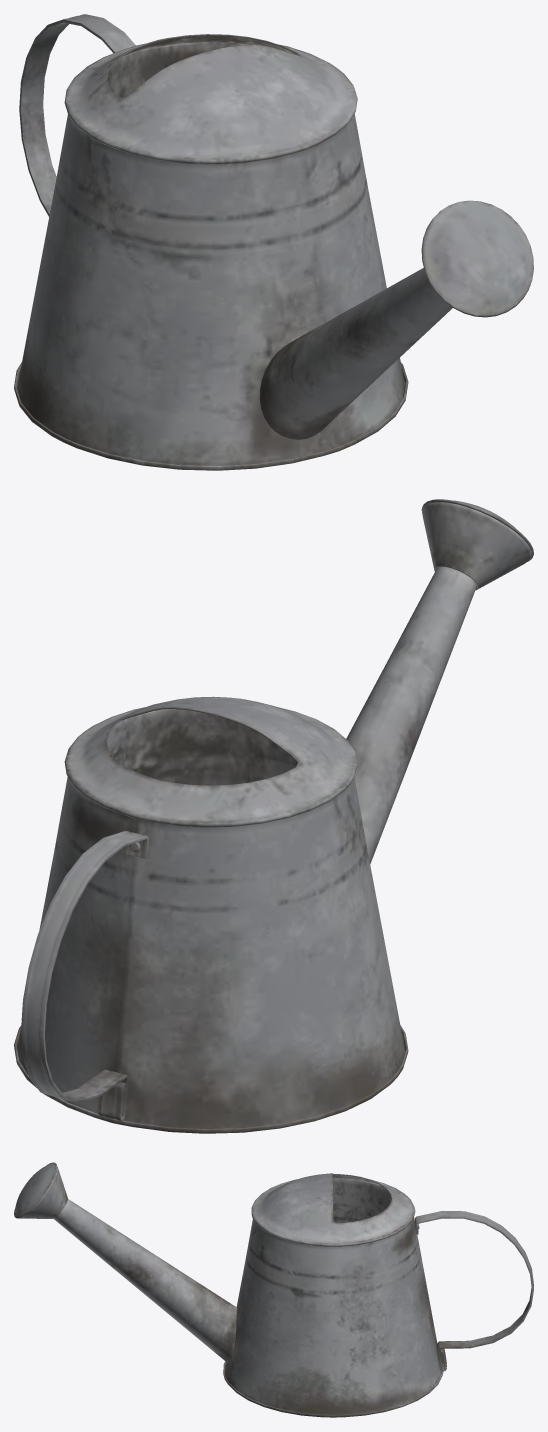
The model's file is watering_can_metal_01.glb.
3 renders of one model, top to bottom at view 1: azimuth 30°, elevation 25°; view 2: azimuth 150°, elevation 25°; view 3: azimuth 270°, elevation 25°, orthographic. The views are drawn at different scales.
Parts seen in each view (by area): view 1: watering_can_metal_01; view 2: watering_can_metal_01; view 3: watering_can_metal_01.
Part boxes in pixels (x1,y1,x2,y2): watering_can_metal_01: [14, 14, 533, 470]; watering_can_metal_01: [14, 499, 533, 1133]; watering_can_metal_01: [14, 1162, 533, 1417].
Size of the model in its own units: 0.191 by 0.1968 by 0.4523.
1 material, 1 textured.
